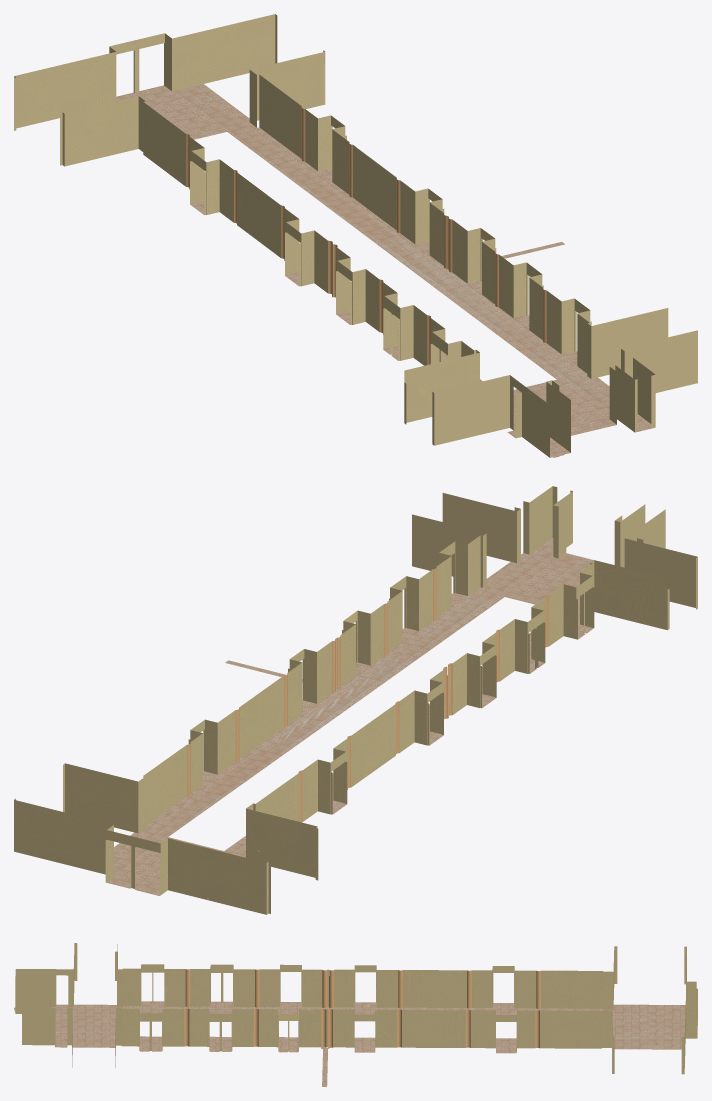
The model's file is COM002.obj.
3 renders of one model, top to bottom at view 1: azimuth 30°, elevation 25°; view 2: azimuth 150°, elevation 25°; view 3: azimuth 270°, elevation 25°, orthographic. The views are drawn at different scales.
Visible parts, largest first — view 1: Mesh1 COM002 Model; view 2: Mesh1 COM002 Model; view 3: Mesh1 COM002 Model.
Part boxes in pixels (x1,y1,x2,y2): Mesh1 COM002 Model: [14, 14, 697, 457]; Mesh1 COM002 Model: [14, 486, 697, 914]; Mesh1 COM002 Model: [14, 943, 697, 1086].
Size of the model in its own units: 21.71 by 3.6 by 59.17.
8 materials, 3 textured.
